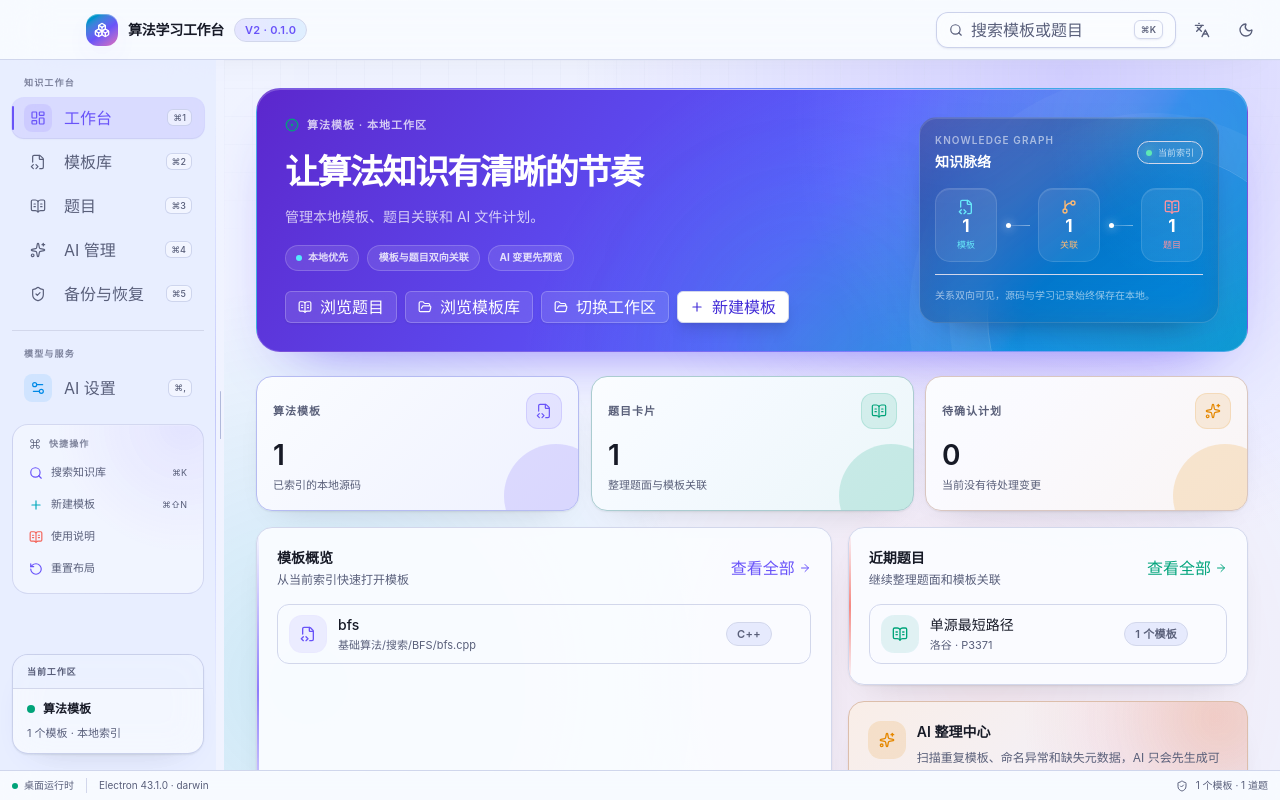
Scenario: App › keeps the dashboard vertically scrollable and opens all three summary destinations
Expected: the heading named "工作台" is shown, [285, 150, 642, 192]
Click the button "算法模板 1 已索引的本地源码" at (297, 411), box [256, 376, 579, 511]
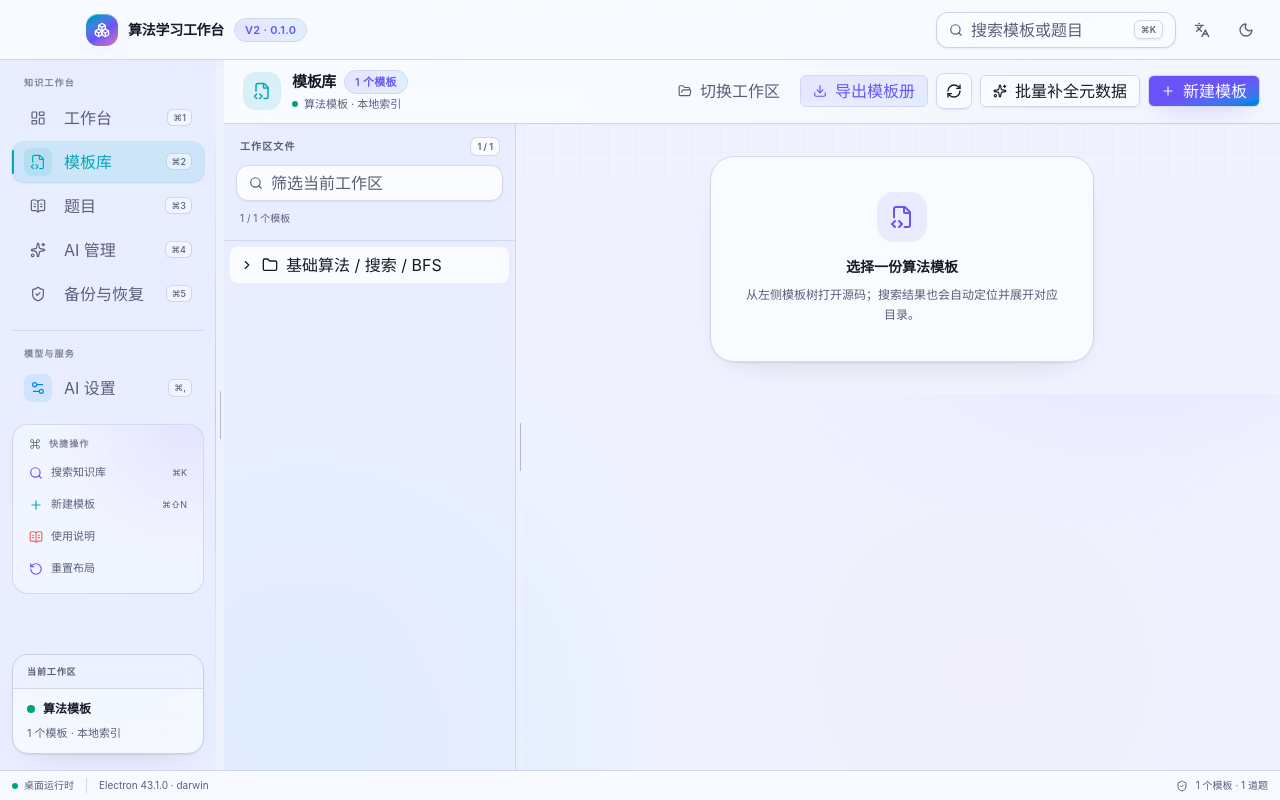
Expected: the heading "模板库" is shown, [292, 71, 336, 93]
Click the button "工作台 ⌘1" at (108, 118), box [12, 98, 204, 138]
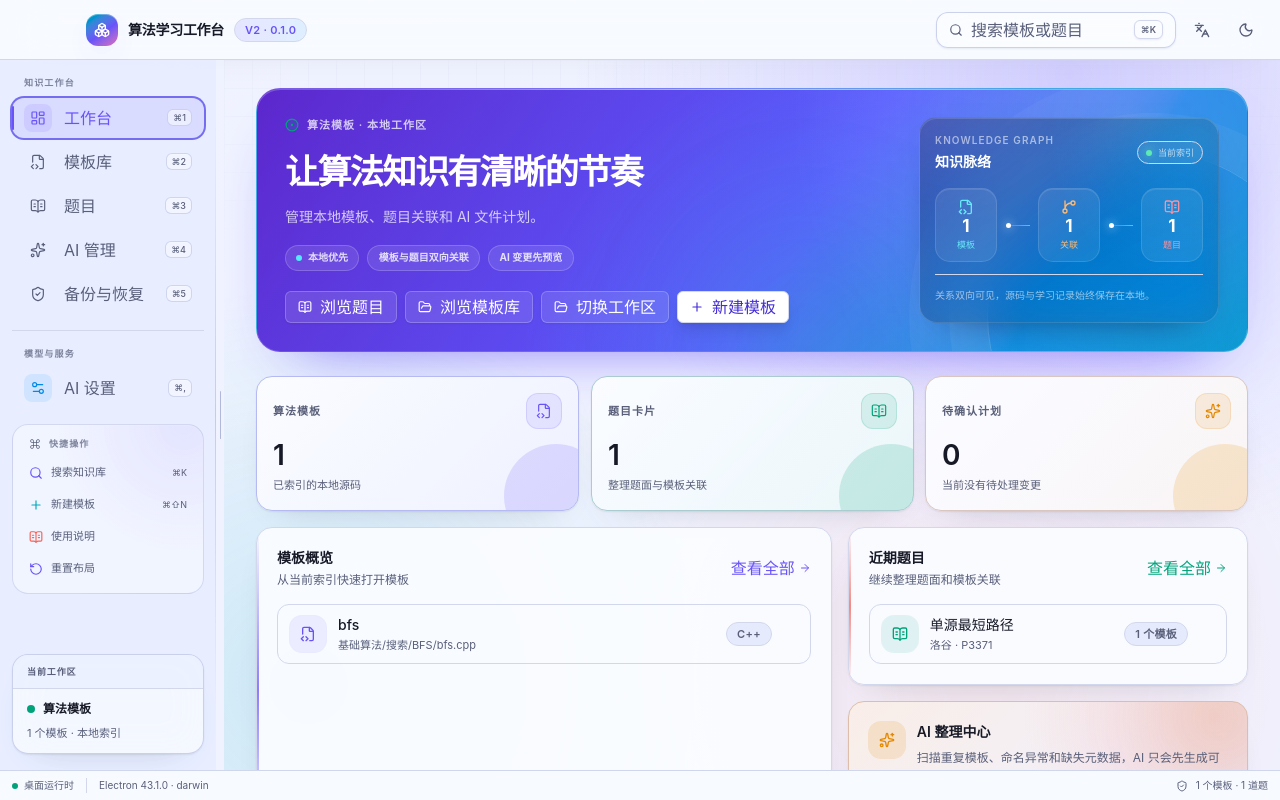
Click the button "题目卡片 1 整理题面与模板关联" at (632, 411), box [591, 376, 913, 511]
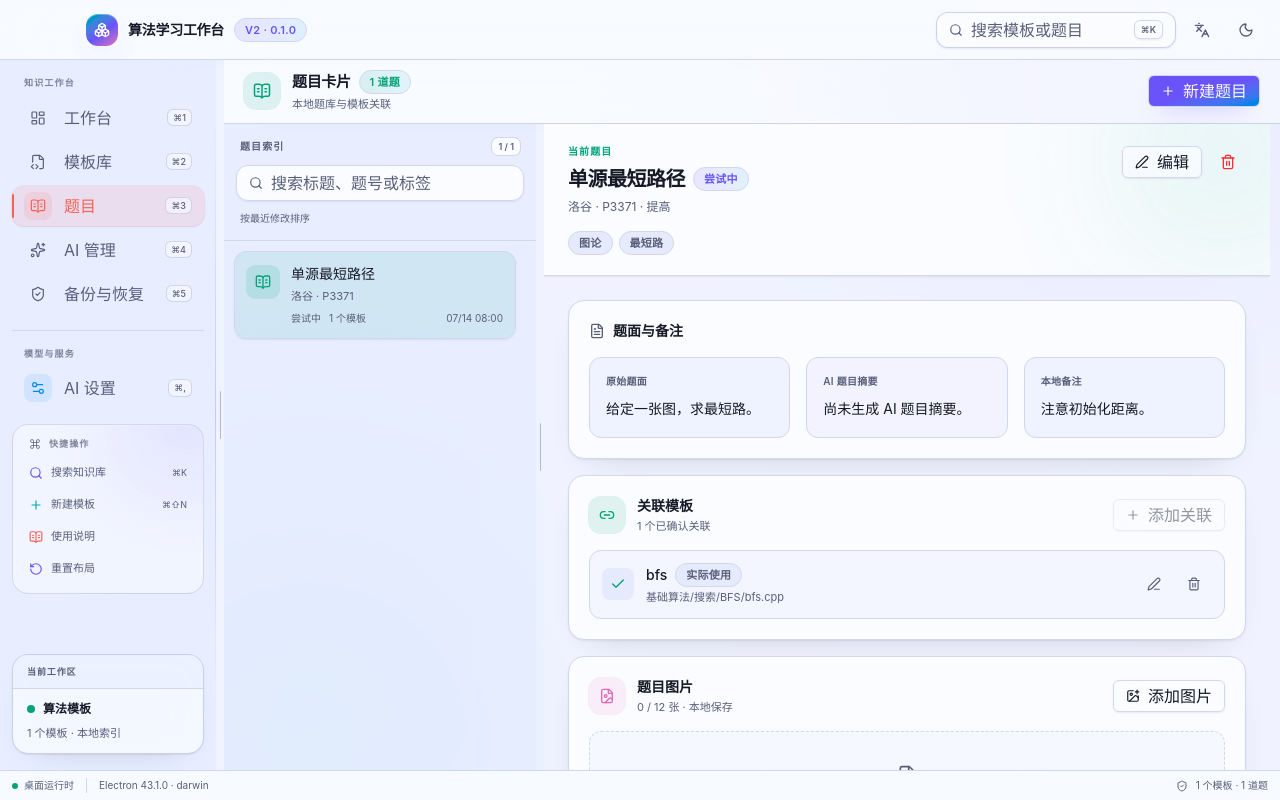
Now the heading "题目卡片" is shown, box [292, 71, 350, 93]
Click the button "工作台 ⌘1" at (108, 118), box [12, 98, 204, 138]
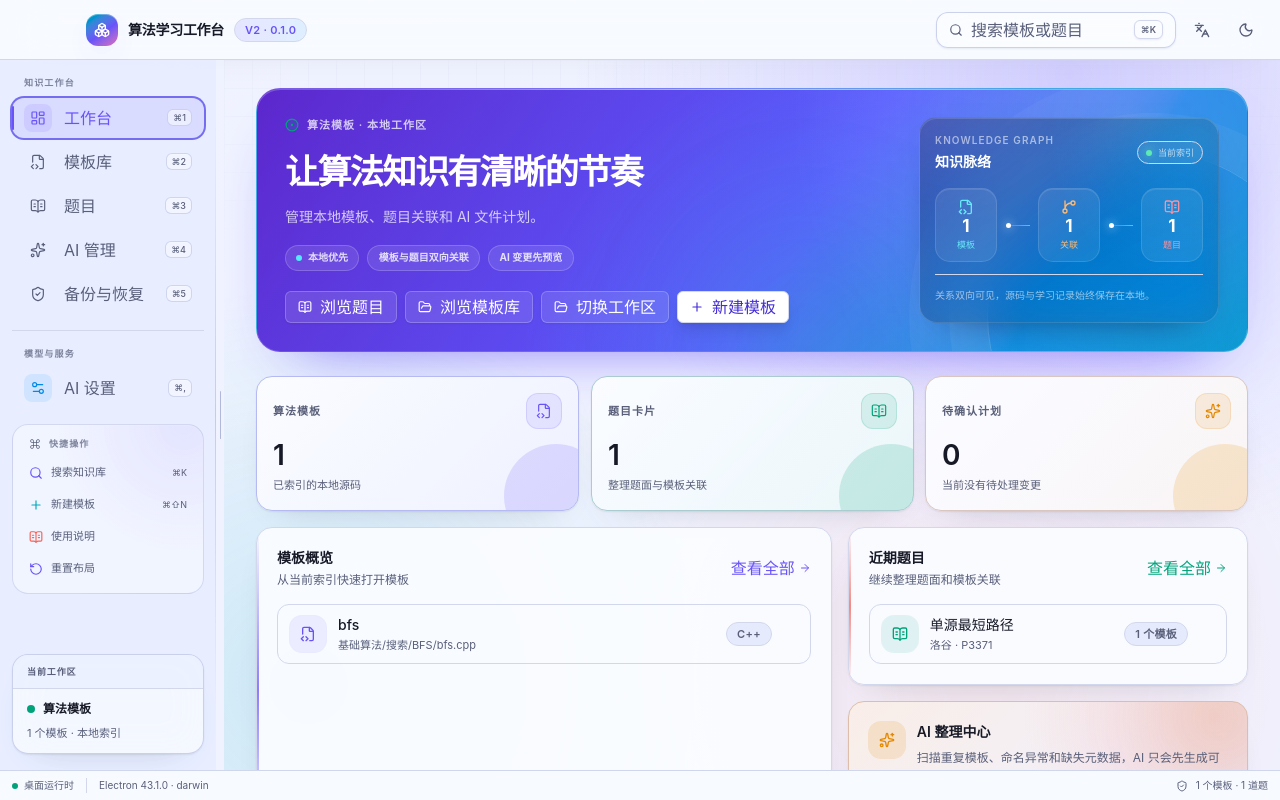
Click the button "待确认计划 0 当前没有待处理变更" at (972, 411), box [925, 376, 1248, 511]
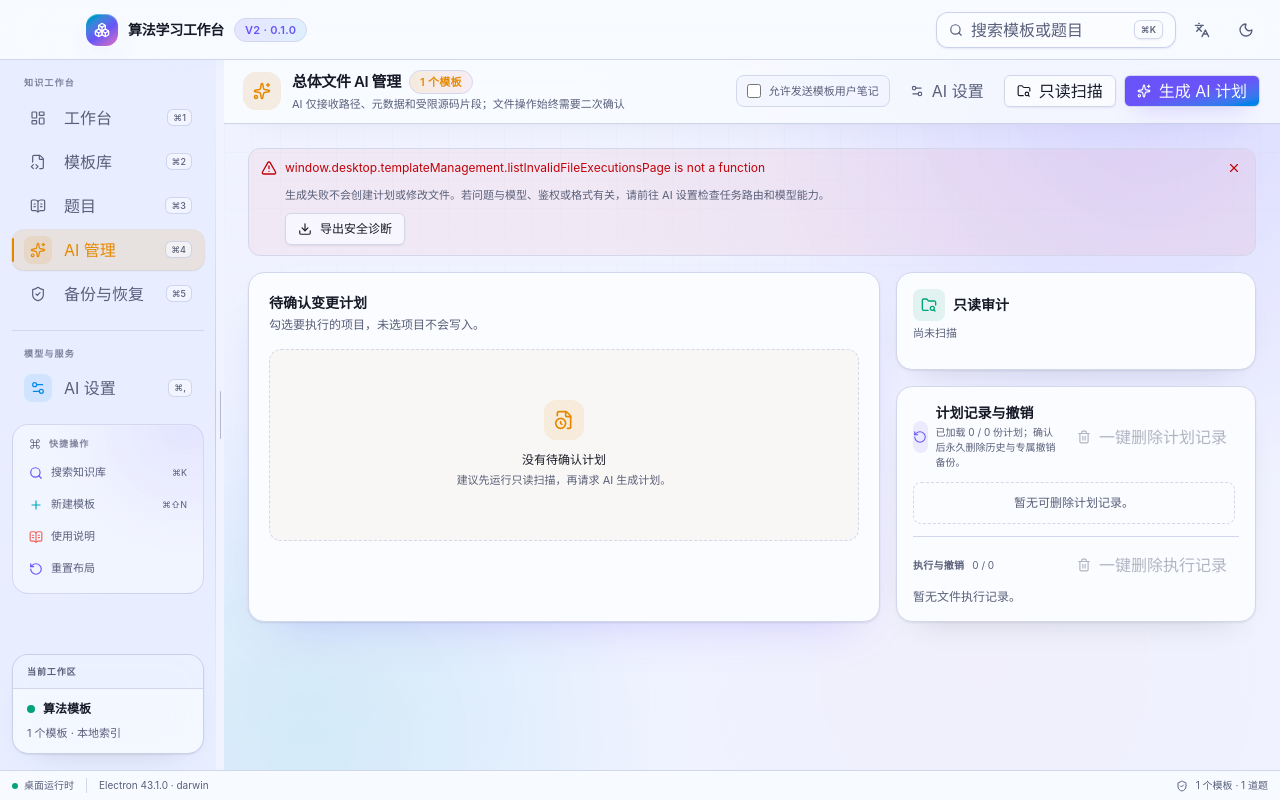
Now the heading "总体文件 AI 管理" is shown, box [292, 71, 401, 93]
